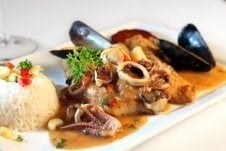curry: (63, 49, 105, 86)
